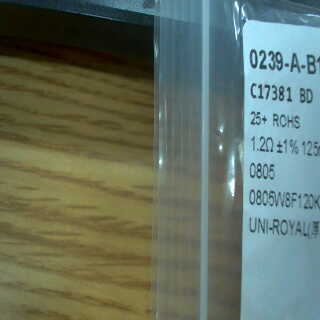1.2R: (247, 132, 277, 184)
